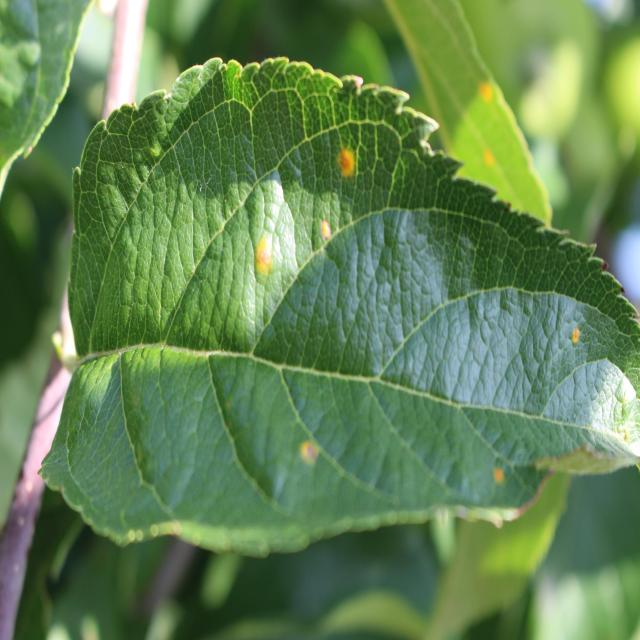Rust: (328, 123, 364, 190), (253, 224, 280, 294), (295, 433, 330, 478), (313, 210, 332, 252), (562, 323, 585, 355), (485, 466, 505, 490)
